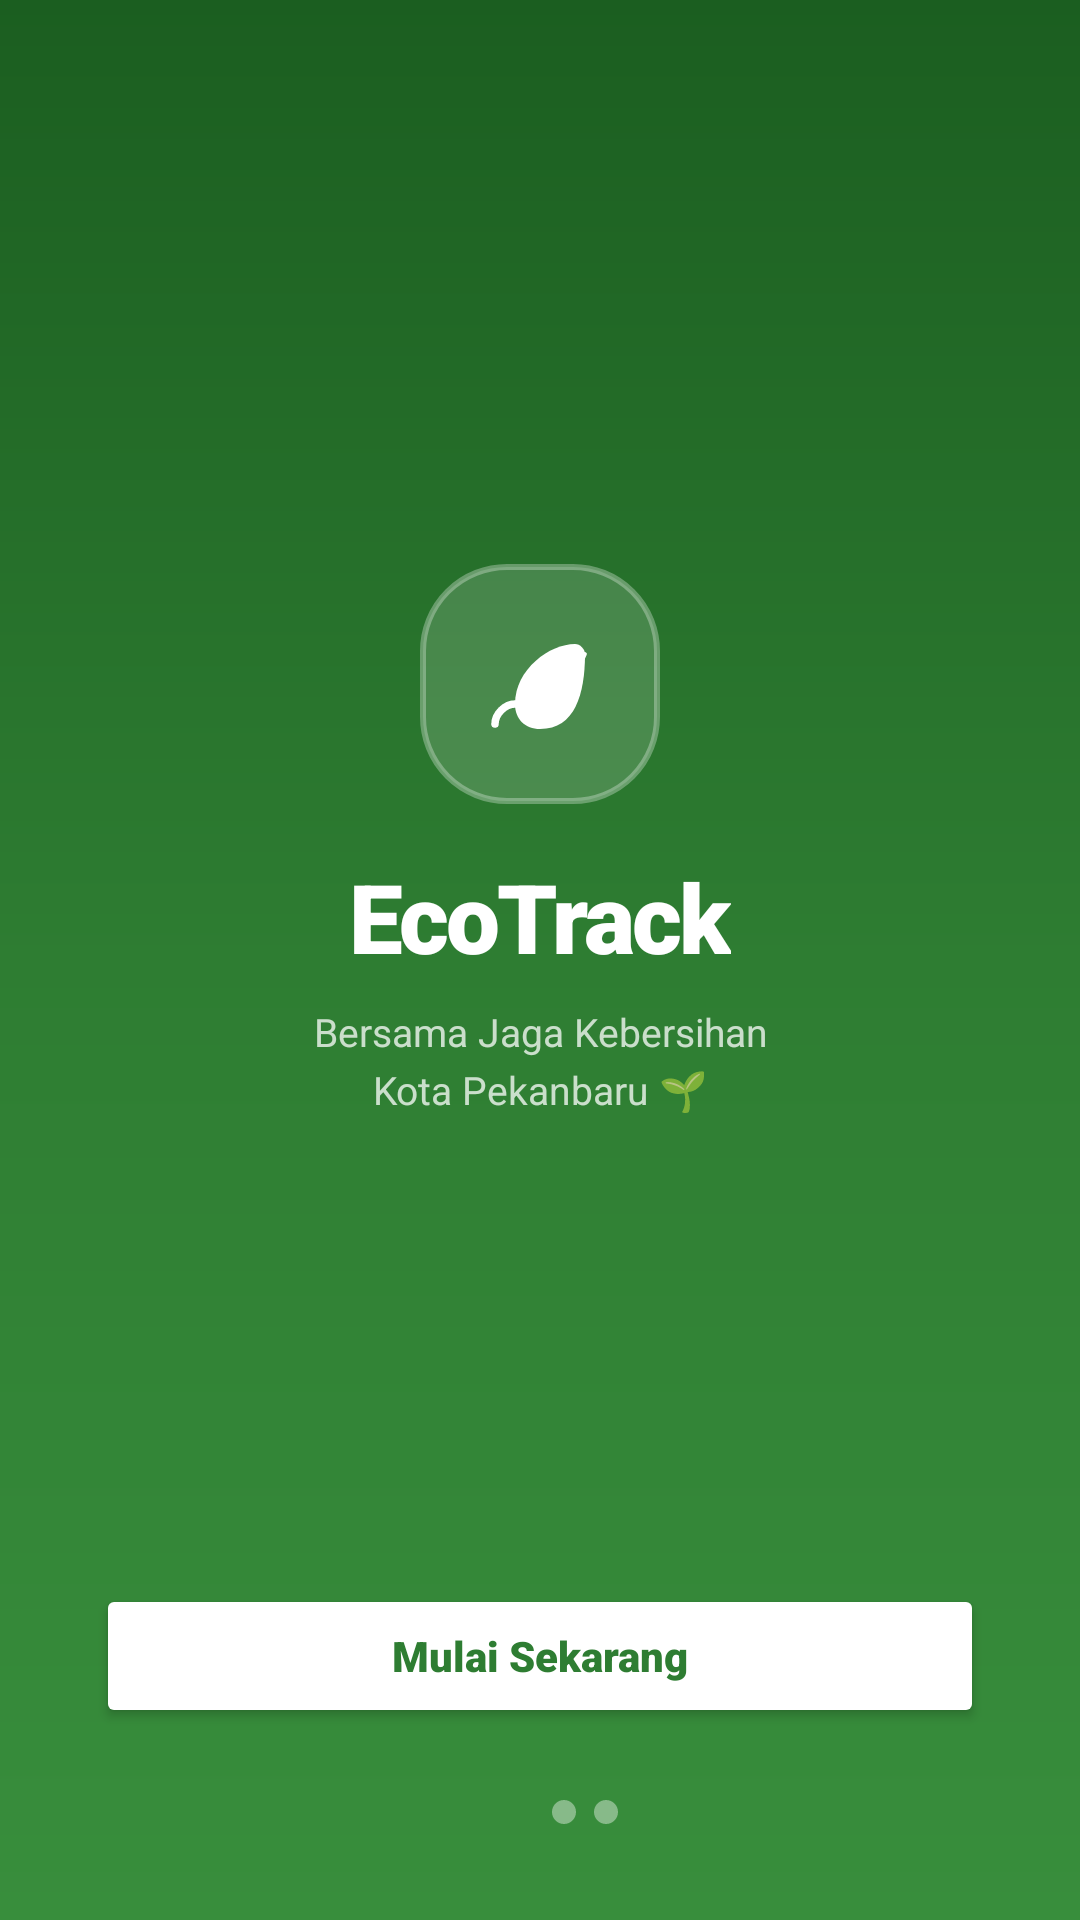

Point at icon controls on the screen. Image size 1080px x 1920px, points as (x,y).
eco: (539,686)
